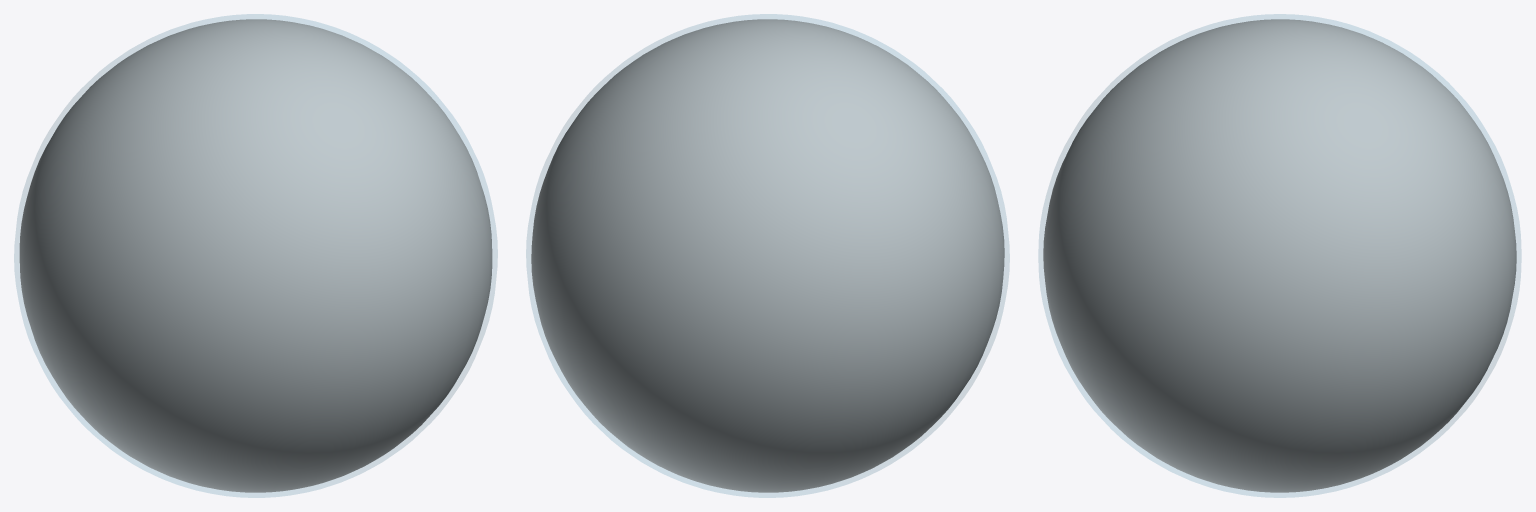
Rendered from EarthHD.fbx.
3 views of the same model, side by side, from view 1: azimuth 30°, elevation 25°; view 2: azimuth 150°, elevation 25°; view 3: azimuth 270°, elevation 25° (orthographic).
Parts seen in each view (by area): view 1: pasted__pSphere1, pasted__pasted__pSphere1; view 2: pasted__pSphere1, pasted__pasted__pSphere1; view 3: pasted__pSphere1, pasted__pasted__pSphere1.
Boxes of the visible parts, left/top/right/bottom form: pasted__pSphere1: left=19, top=19, right=492, bottom=492; pasted__pasted__pSphere1: left=14, top=14, right=497, bottom=497; pasted__pSphere1: left=531, top=19, right=1004, bottom=492; pasted__pasted__pSphere1: left=526, top=14, right=1009, bottom=497; pasted__pSphere1: left=1043, top=19, right=1516, bottom=492; pasted__pasted__pSphere1: left=1039, top=14, right=1520, bottom=497.
Bounding box in the file's own units: 133 × 133 × 133.
